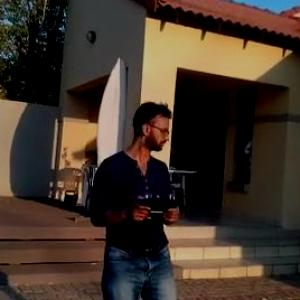follow: (93, 101, 183, 299)
